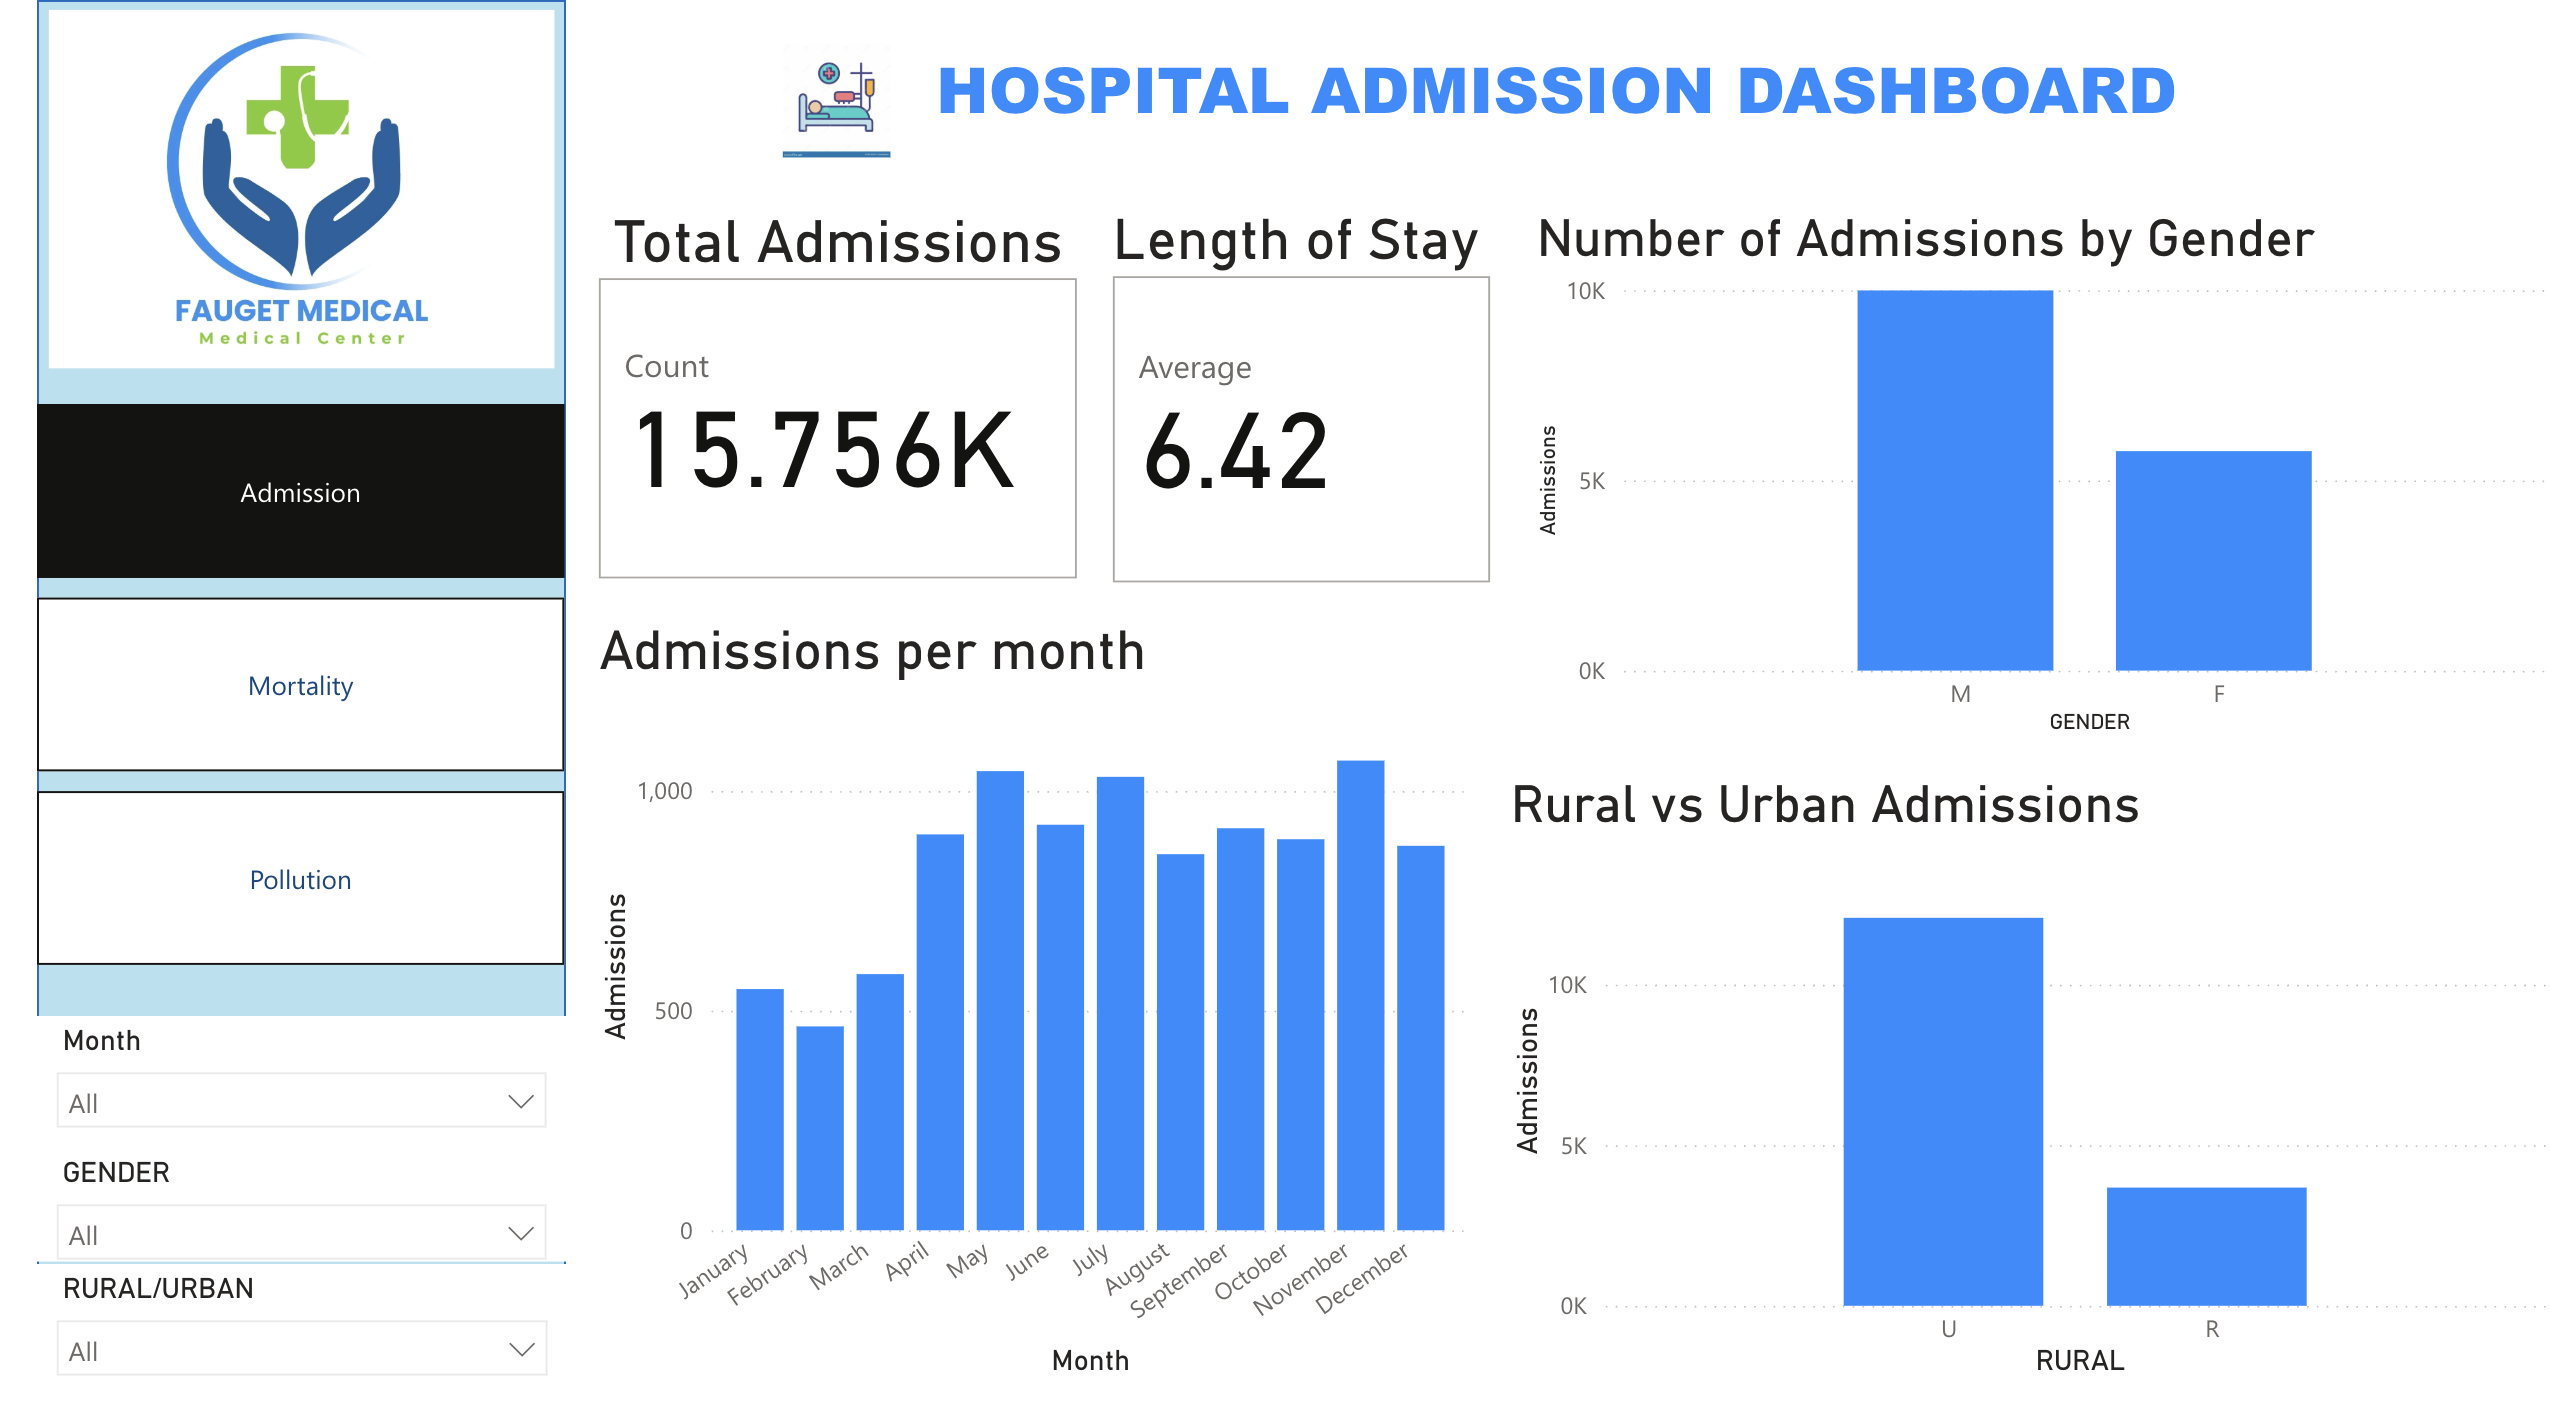

What the dashboard file says about the page in this screenshot:
{"tool":"powerbi","page":{"name":"Admission ","canvas":[1280,720],"ordinal":0},"visuals":[{"type":"shape","box":[0,0,267.8,720],"z":0},{"type":"cardVisual","title":"Total Admissions","fields":{"Data":["CountNonNull(HDHI Admission data.MRD No.)"]},"box":[279.4,108,252,190.1],"z":1000},{"type":"clusteredColumnChart","title":"Admissions per month","fields":{"Y":["CountNonNull(HDHI Admission data.MRD No.)"],"Category":["HDHI Admission data.D.O.A.Variation.Date Hierarchy.Month"]},"box":[279.4,316.8,450.7,384.5],"z":2000},{"type":"clusteredColumnChart","title":"Rural vs Urban Admissions","fields":{"Category":["HDHI Admission data.RURAL"],"Y":["CountNonNull(HDHI Admission data.MRD No.)"]},"box":[741.6,394.6,538.6,306.7],"z":3000},{"type":"clusteredColumnChart","title":" Number of Admissions by Gender","fields":{"Category":["HDHI Admission data.GENDER"],"Y":["CountNonNull(HDHI Admission data.MRD No.)"]},"box":[754.6,108,525.6,267.8],"z":4000},{"type":"pageNavigator","box":[0,204.5,267.8,285.1],"z":5000},{"type":"textbox","box":[279.4,17.3,1000.8,67.7],"z":6000},{"type":"cardVisual","title":"Length of Stay","fields":{"Data":["Avg(HDHI Admission data.DURATION OF STAY)"]},"box":[540,108,201.6,191.5],"z":7000},{"type":"image","box":[370.1,17.3,70.6,67.7],"z":8000},{"type":"slicer","fields":{"Values":["HDHI Admission data.D.O.A.Variation.Date Hierarchy.Month"]},"box":[0,514.1,267.8,67.7],"z":9000},{"type":"slicer","fields":{"Values":["HDHI Admission data.GENDER"]},"box":[0,581.8,267.8,57.6],"z":10000},{"type":"slicer","fields":{"Values":["HDHI Admission data.RURAL"]},"box":[0,640,268.3,80],"z":11000},{"type":"image","box":[0,0,267.8,191.5],"z":12000}]}

Visuals, with their boxes in screenshot pixels (x1, y1, x2, y2), scaled from the page's 1280x720 canvas onto the 2550x1422 screenshot:
shape: <box>0,0,534,1421</box>
"Total Admissions" cardVisual: <box>557,213,1059,589</box>
"Admissions per month" clusteredColumnChart: <box>557,626,1454,1385</box>
"Rural vs Urban Admissions" clusteredColumnChart: <box>1477,779,2549,1385</box>
" Number of Admissions by Gender" clusteredColumnChart: <box>1503,213,2549,742</box>
pageNavigator: <box>0,404,534,967</box>
textbox: <box>557,34,2549,168</box>
"Length of Stay" cardVisual: <box>1076,213,1477,592</box>
image: <box>737,34,878,168</box>
slicer - HDHI Admission data.D.O.A.Variation.Date Hierarchy.Month: <box>0,1015,534,1149</box>
slicer - HDHI Admission data.GENDER: <box>0,1149,534,1263</box>
slicer - HDHI Admission data.RURAL: <box>0,1264,535,1421</box>
image: <box>0,0,534,378</box>
